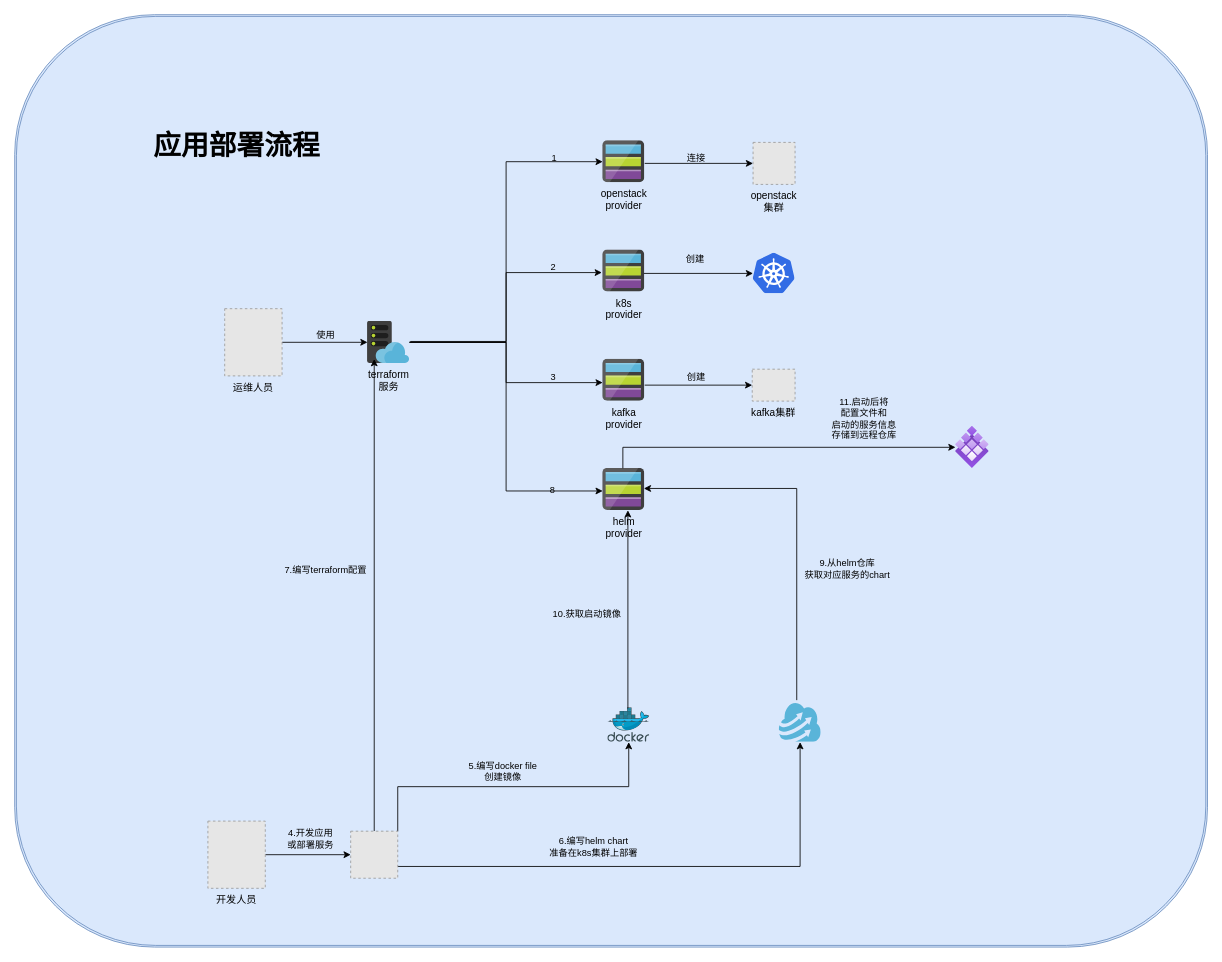
Image size: 1222x962. Some labels were removed from this diagram. Grey dashed boxes stand in for pictures. Here are the shapes that lost their labels. From the top down, the centre of each, then its label:
At point 774,273: "K8S集群".
At point 972,447: "terraform 状态远程仓库".
At point 628,724: "镜像仓库".
At point 800,722: "Helm脚本仓库".
